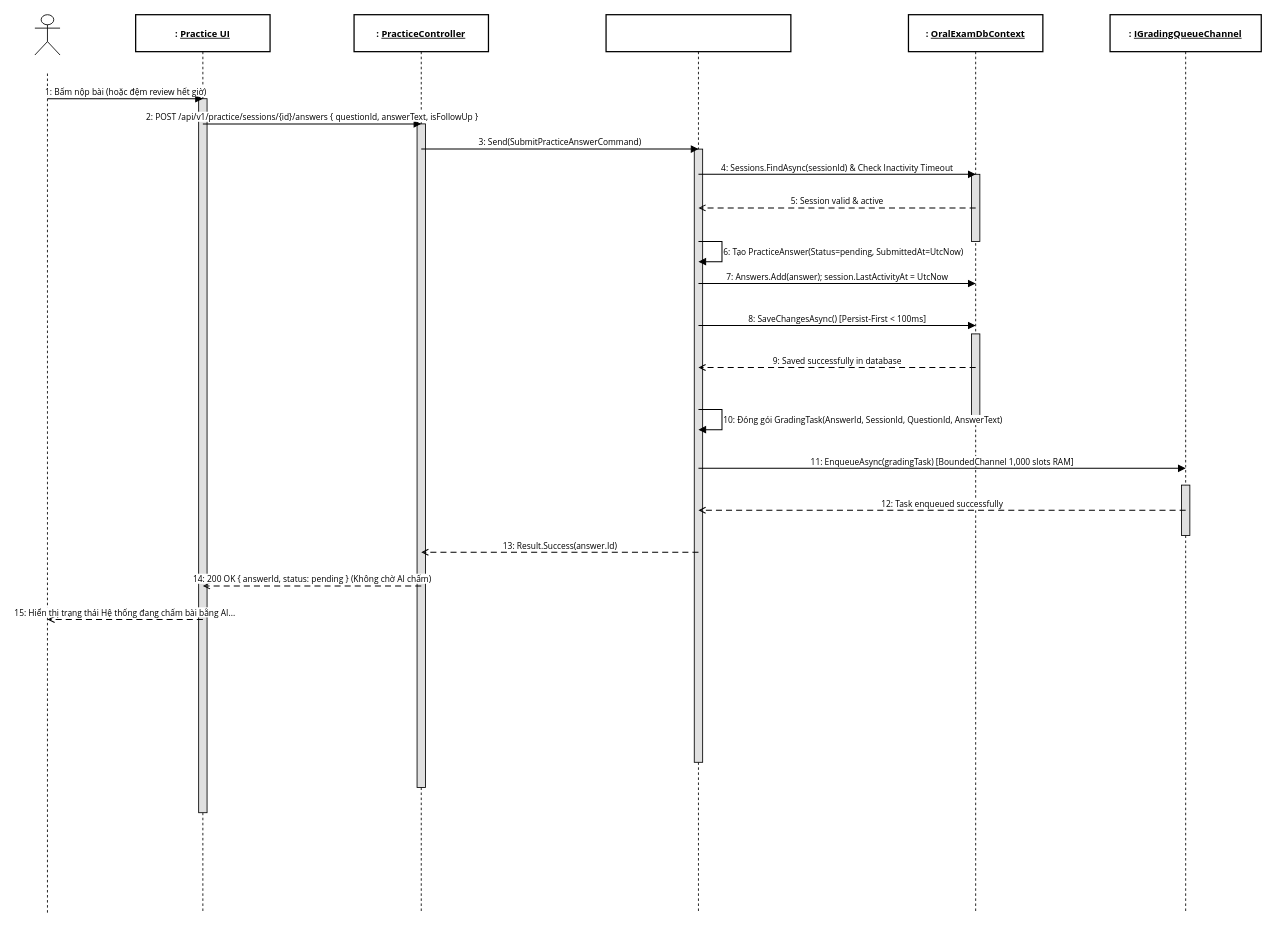
This 1277x930 diagram has some shape labels left out. The shapes that lost their labels are listed below. From the top down, each one's centre as x and y in pixels, then its label:
(47,34): : Sinh viên
(698,33): : SubmitPracticeAnswerCommandHandler
